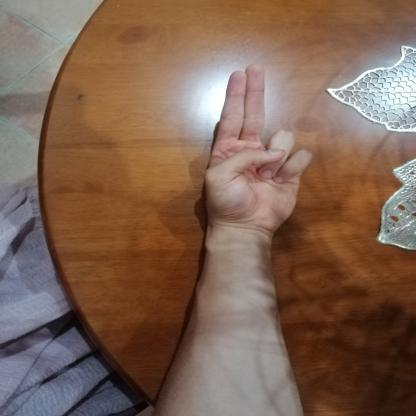TA: (185, 54, 322, 236)
